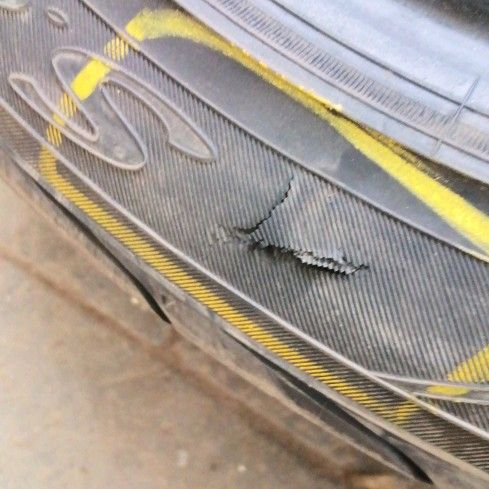cut: (230, 169, 370, 279)
